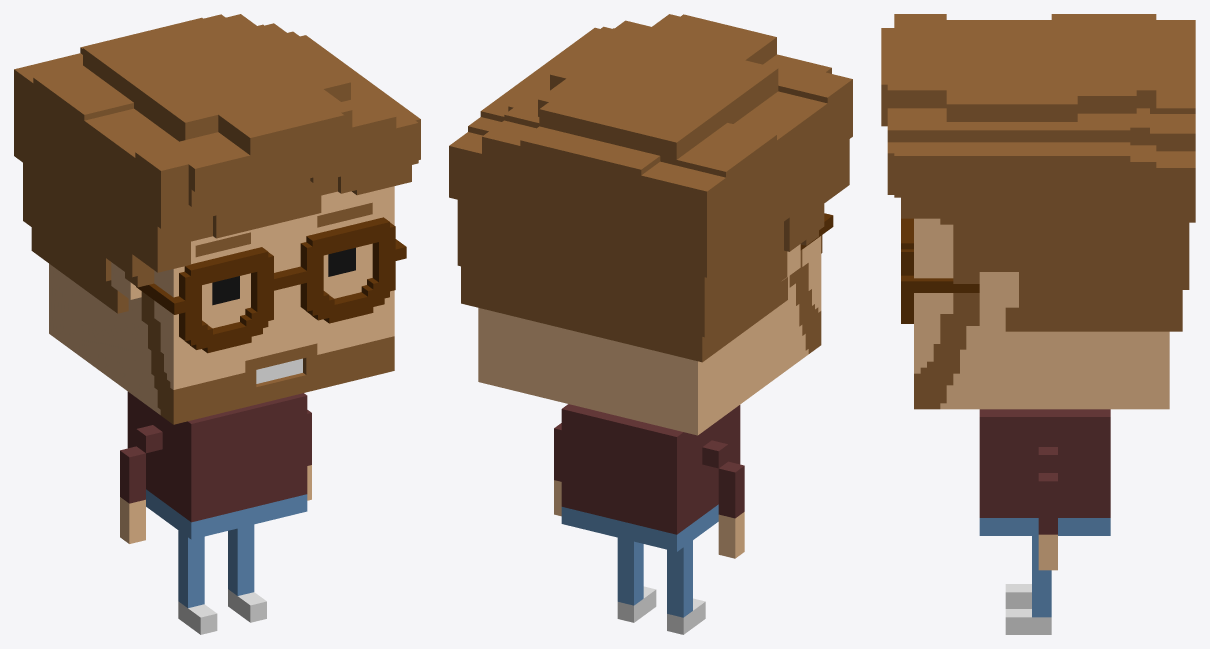
The model's file is myvoxel.gltf.
3 views of the same model, side by side, from view 1: azimuth 30°, elevation 25°; view 2: azimuth 150°, elevation 25°; view 3: azimuth 270°, elevation 25° (orthographic). The views are drawn at different scales.
Parts seen in each view (by area): view 1: myvoxel; view 2: myvoxel; view 3: myvoxel.
Part boxes in pixels (left/top/right/bottom): myvoxel: left=14, top=14, right=420, bottom=634; myvoxel: left=449, top=14, right=852, bottom=634; myvoxel: left=881, top=14, right=1195, bottom=634.
Bounding box in the file's own units: 4.7 × 9.4 × 4.8.
1 material, 1 textured.
